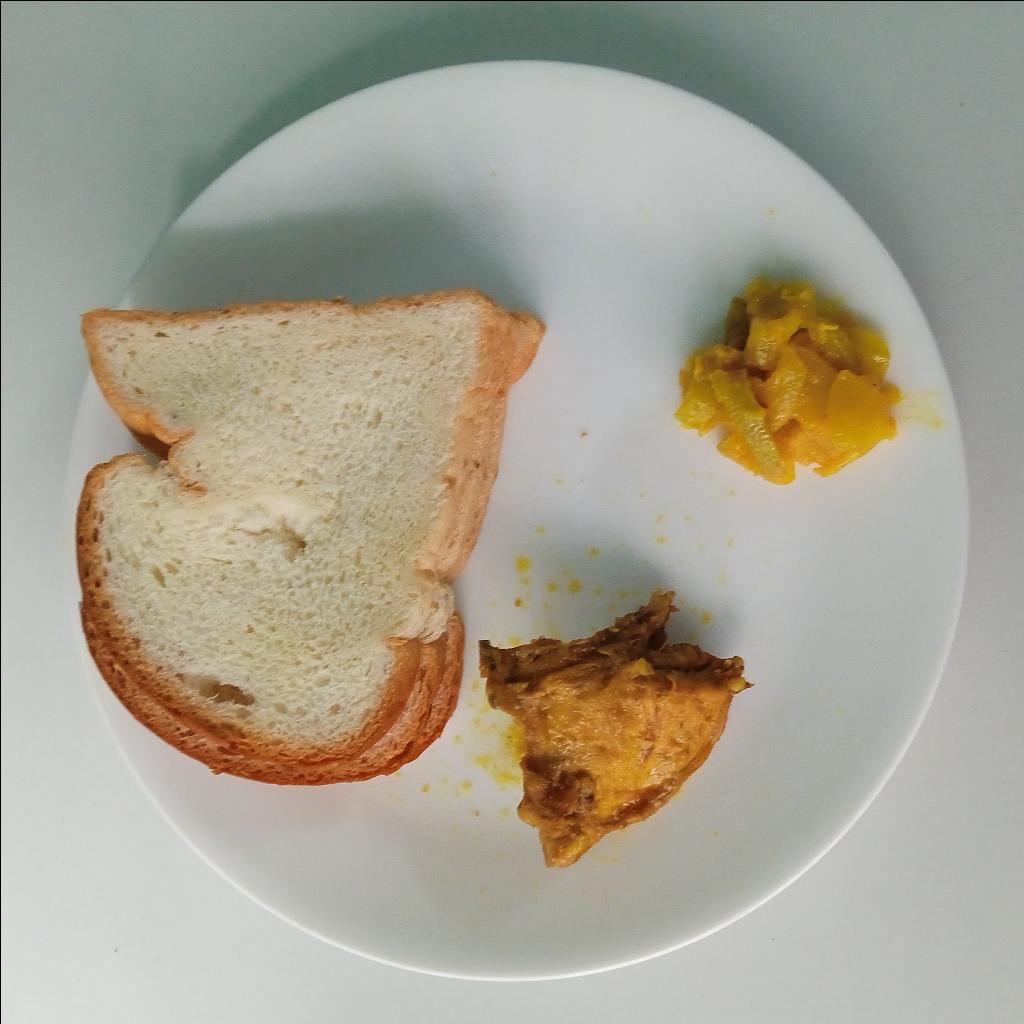bread: (73, 287, 543, 785)
chicken: (479, 586, 752, 874)
lau: (675, 275, 904, 486)
